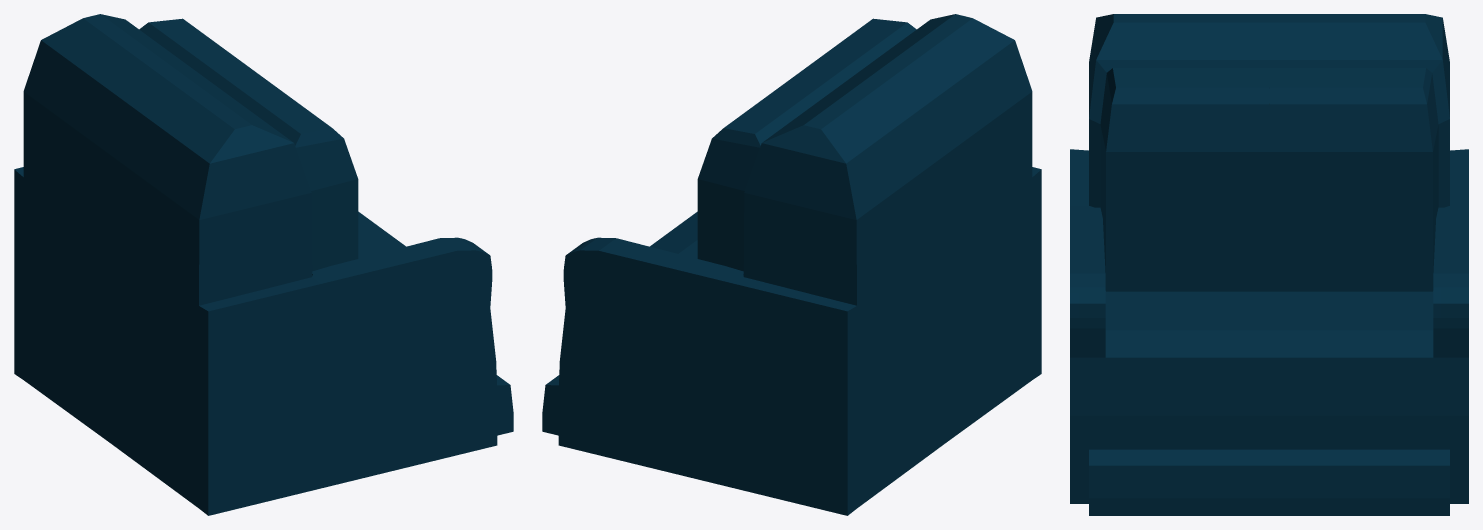
Rendered from SOFA-PEQUEÑO-AZUL.glb.
3 renders of one model, left to right at view 1: azimuth 30°, elevation 25°; view 2: azimuth 150°, elevation 25°; view 3: azimuth 270°, elevation 25°, orthographic. The views are drawn at different scales.
Parts seen in each view (by area): view 1: SOFA-PEQUEÑO-AZUL; view 2: SOFA-PEQUEÑO-AZUL; view 3: SOFA-PEQUEÑO-AZUL.
Boxes of the visible parts, left/top/right/bottom form: SOFA-PEQUEÑO-AZUL: left=14, top=14, right=513, bottom=515; SOFA-PEQUEÑO-AZUL: left=542, top=14, right=1041, bottom=515; SOFA-PEQUEÑO-AZUL: left=1070, top=14, right=1468, bottom=515.
Bounding box in the file's own units: 2.33 × 2.55 × 2.5.
1 material, 1 textured.
